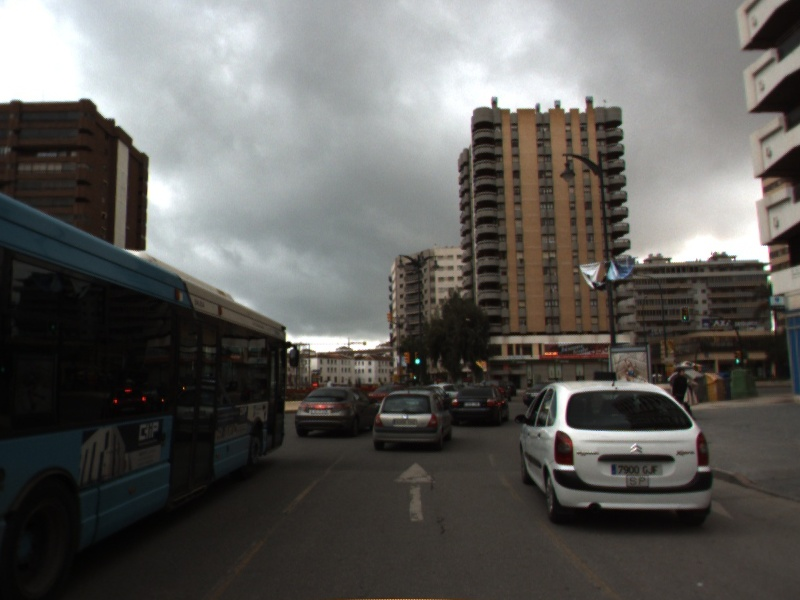STRAIGHT: (391, 460, 440, 523)
